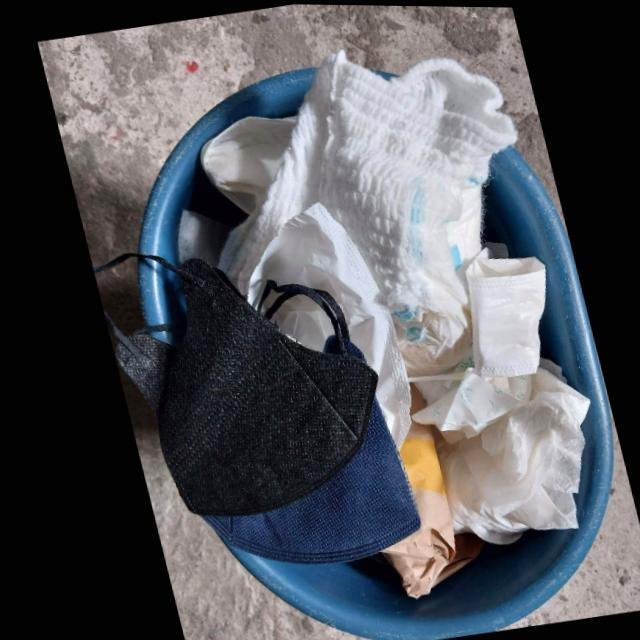paper: (403, 365, 583, 543), (371, 420, 474, 597), (460, 240, 541, 376)
